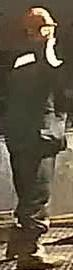helmet: (18, 4, 60, 28)
vest: (4, 43, 70, 157)
